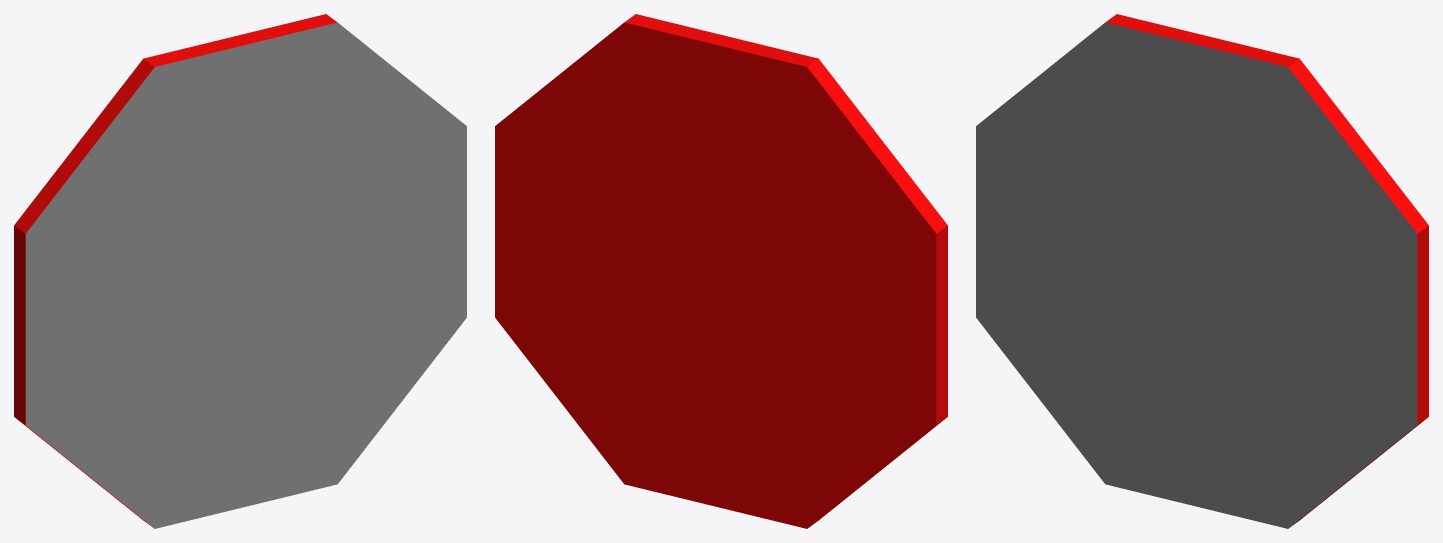
Rendered from Bord_stop.FBX.
3 renders of one model, left to right at view 1: azimuth 30°, elevation 25°; view 2: azimuth 150°, elevation 25°; view 3: azimuth 330°, elevation 25°, orthographic.
Visible parts, largest first — view 1: Bord_stop; view 2: Bord_stop; view 3: Bord_stop.
Part boxes in pixels (bbox=[...]): Bord_stop: bbox=[14, 14, 466, 528]; Bord_stop: bbox=[495, 14, 947, 528]; Bord_stop: bbox=[976, 14, 1428, 528].
Bounding box in the file's own units: 21.82 × 21.82 × 0.9876.
